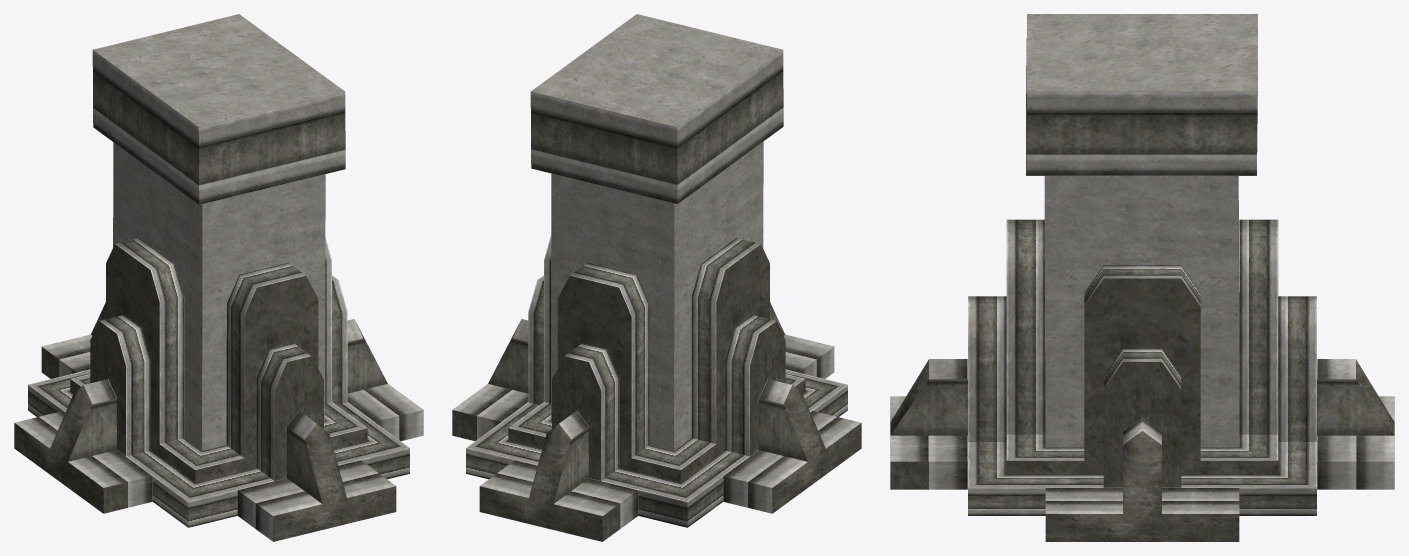
File: DWARF_PALACE_MAINHALL_DEBREE05.fbx
The picture shows the model from 3 angles, left to right: view 1: azimuth 30°, elevation 25°; view 2: azimuth 150°, elevation 25°; view 3: azimuth 270°, elevation 25°; orthographic projection. The views are drawn at different scales.
Parts seen in each view (by area): view 1: DWARF_PALACE_MAINHALL_DEBREE05; view 2: DWARF_PALACE_MAINHALL_DEBREE05; view 3: DWARF_PALACE_MAINHALL_DEBREE05.
Part boxes in pixels (x1,y1,x2,y2): DWARF_PALACE_MAINHALL_DEBREE05: [14, 14, 423, 541]; DWARF_PALACE_MAINHALL_DEBREE05: [452, 14, 861, 541]; DWARF_PALACE_MAINHALL_DEBREE05: [890, 14, 1394, 541].
Bounding box in the file's own units: 52000 × 57656 × 65213.
Materials: 5 (5 with a texture image).
